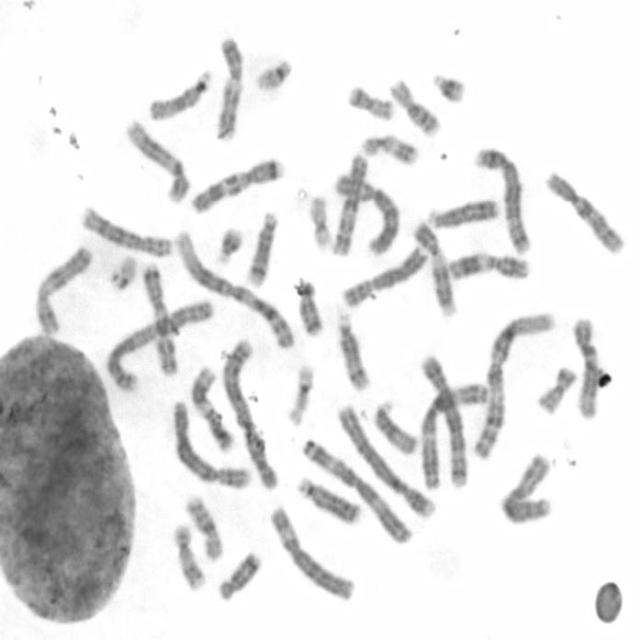A1: (175, 228, 298, 349), (472, 309, 555, 462)
A2: (105, 297, 215, 395), (221, 336, 279, 490)
A3: (300, 439, 416, 546), (420, 381, 490, 490)
B4: (334, 403, 437, 522), (172, 398, 252, 491)
B5: (418, 352, 470, 490), (474, 145, 533, 256)
C10: (544, 169, 626, 257), (331, 150, 368, 257)
C11: (189, 367, 235, 455), (444, 252, 532, 282)
C12: (125, 118, 192, 204), (570, 315, 600, 420)
C6: (269, 503, 357, 604), (332, 172, 402, 255)
C7: (188, 159, 285, 217), (141, 256, 180, 378)
C8: (340, 245, 430, 309), (80, 204, 174, 259)
C9: (412, 220, 458, 320), (212, 37, 244, 145)
D13: (295, 477, 362, 526), (425, 196, 501, 230)
D14: (334, 312, 372, 394), (246, 208, 280, 288)
D15: (147, 68, 213, 122), (373, 399, 419, 457)
E16: (386, 77, 444, 138), (184, 495, 225, 562)
E17: (172, 522, 208, 594), (361, 132, 420, 167)
E18: (216, 549, 263, 603), (292, 276, 327, 339)
F19: (285, 360, 316, 430), (305, 192, 332, 252)
F20: (534, 364, 578, 420), (344, 85, 396, 122)
G21: (431, 71, 469, 106), (214, 224, 244, 267)
G22: (253, 57, 293, 94), (106, 253, 138, 292)
X: (32, 245, 93, 336), (500, 448, 552, 528)
